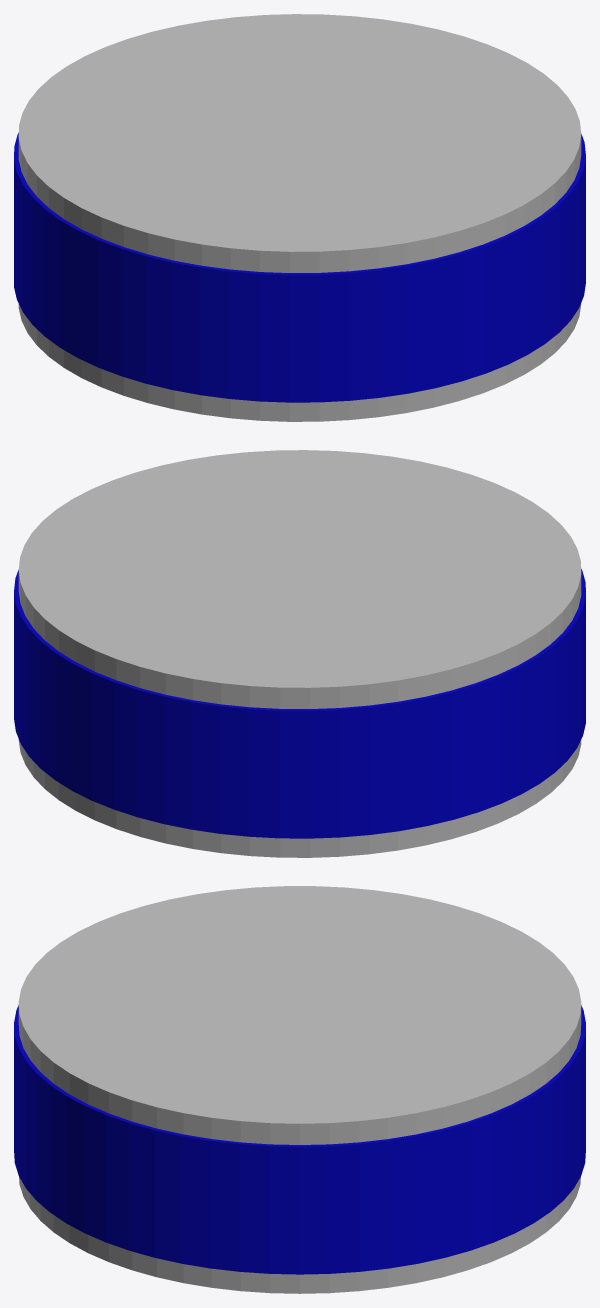
File: disc_60.dae
3 renders of one model, top to bottom at view 1: azimuth 30°, elevation 25°; view 2: azimuth 150°, elevation 25°; view 3: azimuth 270°, elevation 25°, orthographic.
Visible parts, largest first — view 1: node1, node0; view 2: node1, node0; view 3: node1, node0.
Part boxes in pixels (<box>): node1: <box>18,14,581,421</box>; node0: <box>14,133,585,402</box>; node1: <box>18,450,581,857</box>; node0: <box>14,569,585,838</box>; node1: <box>18,886,581,1293</box>; node0: <box>14,1005,585,1274</box>.
Bounding box in the file's own units: 0.061 × 0.061 × 0.02.
